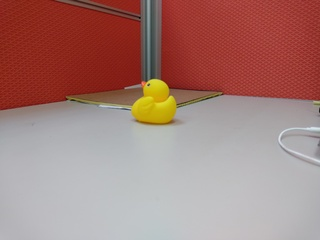duck: (126, 77, 184, 129)
